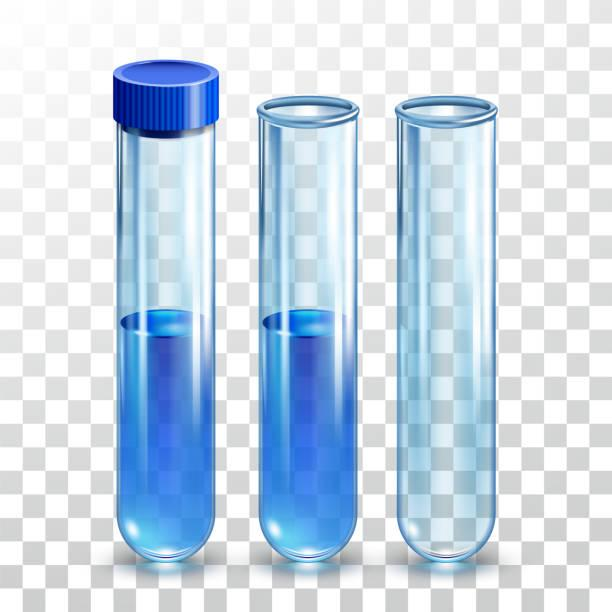Test tube: (383, 80, 501, 566), (248, 88, 367, 565), (112, 51, 223, 562)
